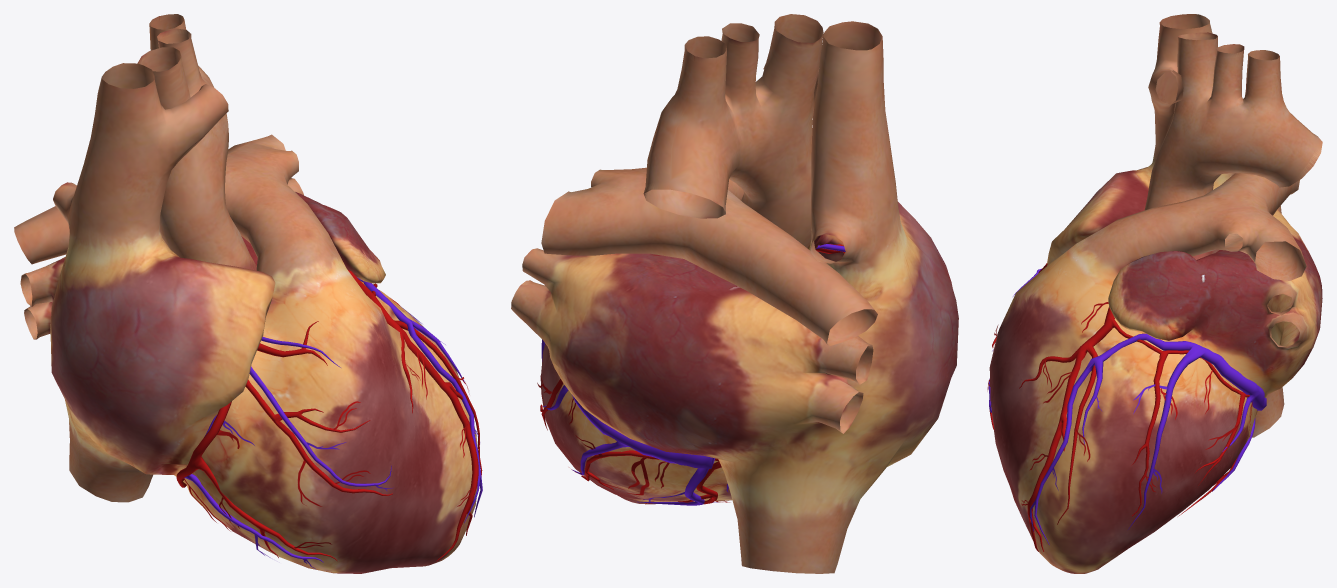
The model's file is human_heart.glb.
The picture shows the model from 3 angles, left to right: view 1: azimuth 30°, elevation 25°; view 2: azimuth 150°, elevation 25°; view 3: azimuth 270°, elevation 25°; orthographic projection. The views are drawn at different scales.
Parts seen in each view (by area): view 1: Object_2, Object_4, Object_6, Object_3; view 2: Object_2, Object_6, Object_4, Object_3, Object_5; view 3: Object_2, Object_4, Object_6, Object_3, Object_5.
Boxes of the visible parts, box(x1,y1,x2,y2) form: Object_2: box(14, 14, 478, 573); Object_4: box(176, 270, 482, 561); Object_6: box(184, 277, 482, 568); Object_3: box(183, 286, 474, 548); Object_2: box(511, 14, 958, 573); Object_6: box(541, 244, 845, 505); Object_4: box(540, 244, 845, 504); Object_3: box(537, 375, 730, 502); Object_5: box(543, 385, 628, 474); Object_2: box(989, 14, 1322, 573); Object_4: box(989, 263, 1249, 551); Object_6: box(988, 268, 1266, 544); Object_3: box(987, 302, 1252, 505); Object_5: box(1212, 395, 1255, 491).
Bounding box in the file's own units: 227 × 305 × 205.
Materials: 3 (3 with a texture image).
